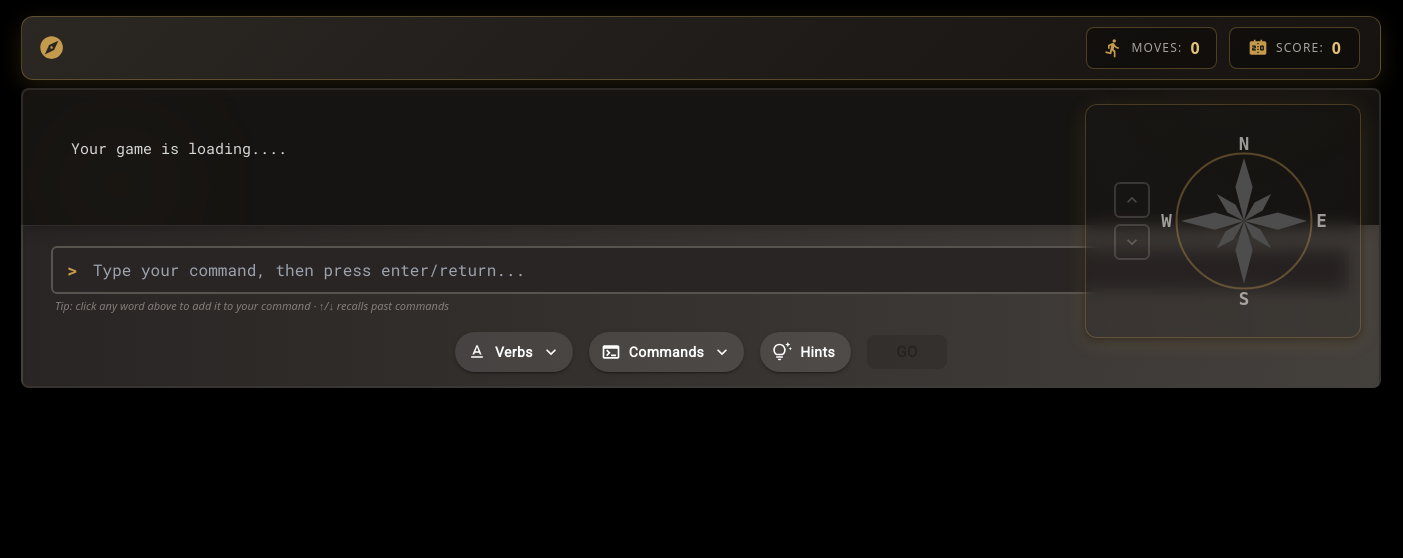
Test: Game › uses the shared hint panel when the dark-launch flag is enabled
The image size is (1403, 558).
Click the button with test id "hints-button": [806, 352] box [760,332,851,372]
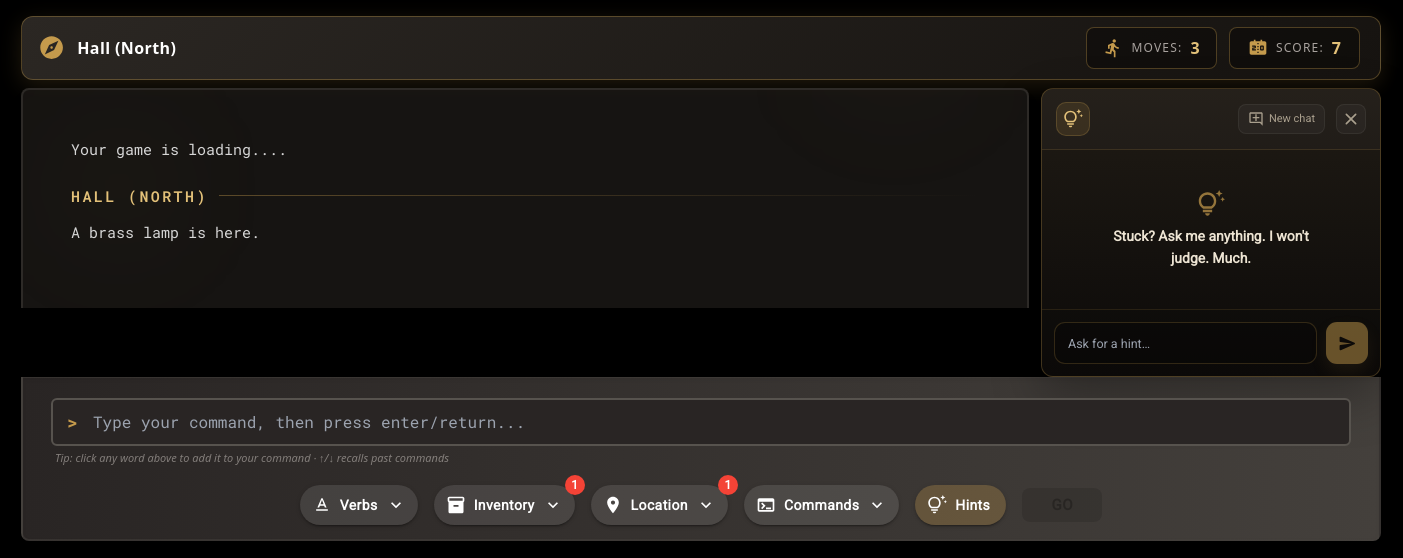
Expected: the element with test id "hint-panel" is shown, [1041,88,1381,377]
Expected: the button "New chat" is shown, [1238,104,1325,134]
